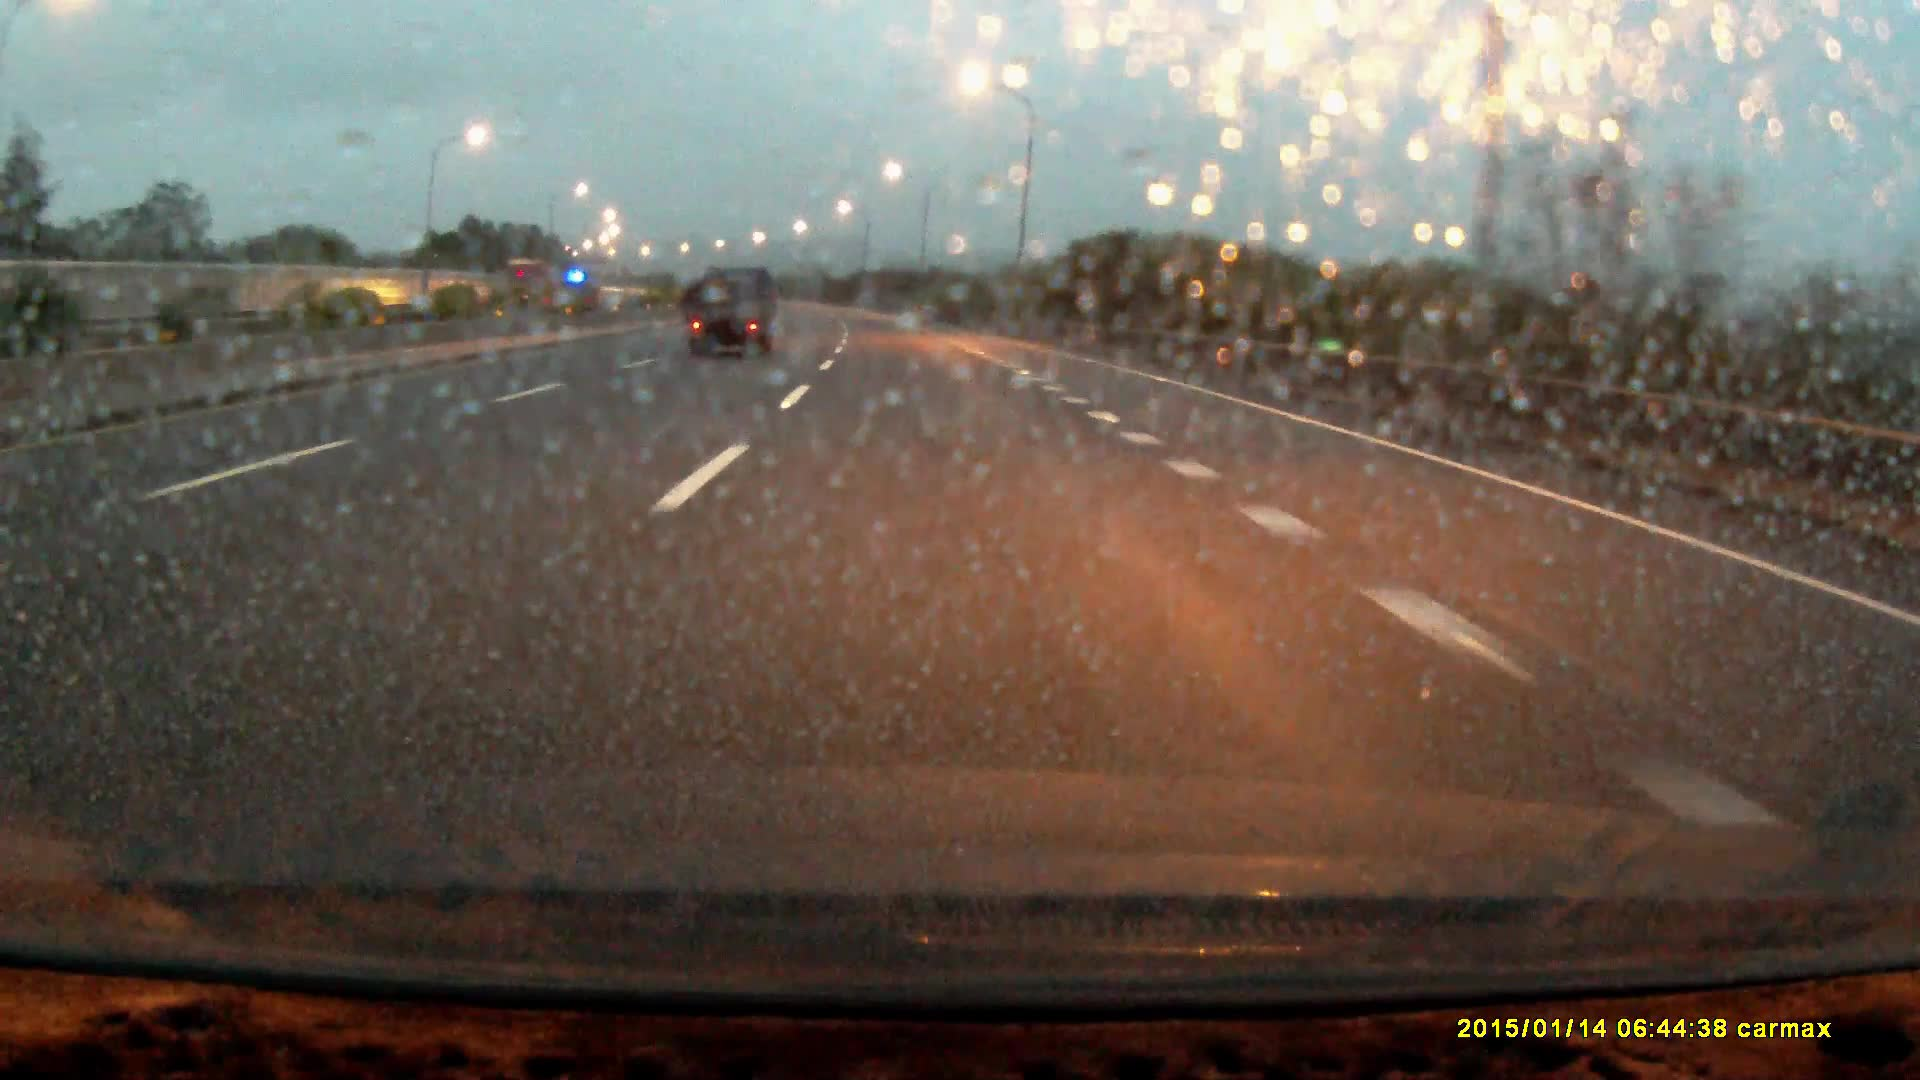vehicle: (691, 266, 773, 361), (502, 262, 559, 309)
